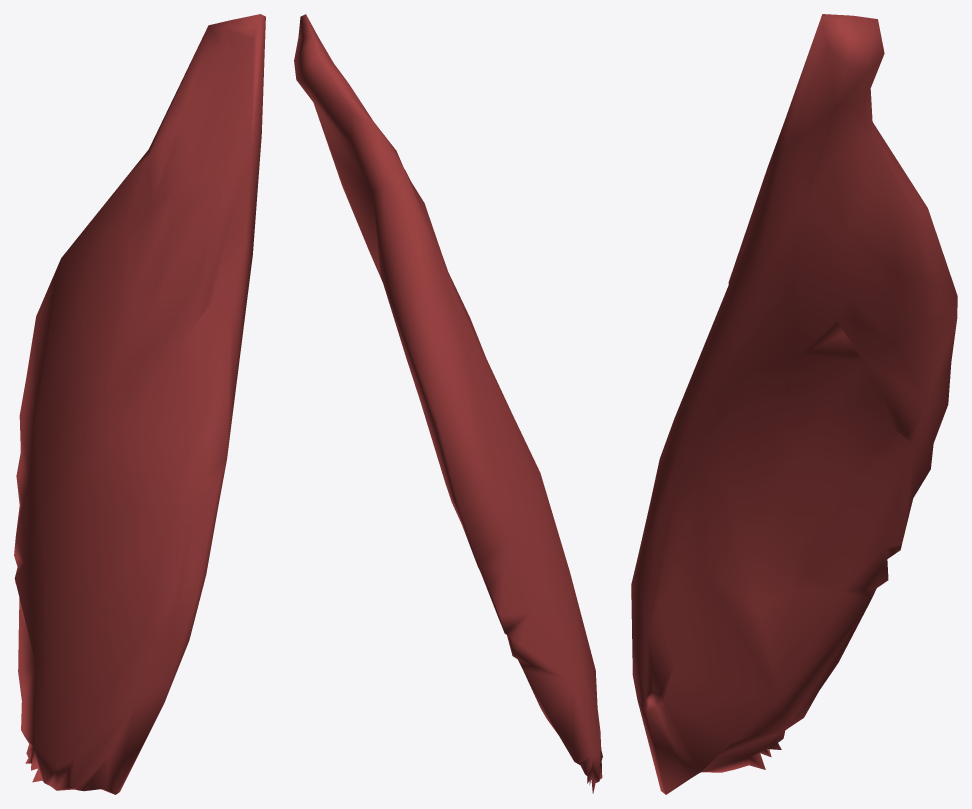
File: opponens-digiti-minimi-muscle-of-hand-l.glb
The picture shows the model from 3 angles, left to right: view 1: azimuth 30°, elevation 25°; view 2: azimuth 150°, elevation 25°; view 3: azimuth 270°, elevation 25°; orthographic projection. The views are drawn at different scales.
Parts seen in each view (by area): view 1: Opponens digiti minimi muscle of hand.l; view 2: Opponens digiti minimi muscle of hand.l; view 3: Opponens digiti minimi muscle of hand.l.
Boxes of the visible parts, bbox=[...] form: Opponens digiti minimi muscle of hand.l: bbox=[14, 14, 265, 794]; Opponens digiti minimi muscle of hand.l: bbox=[294, 14, 602, 793]; Opponens digiti minimi muscle of hand.l: bbox=[631, 14, 957, 794].
Size of the model in its own units: 0.0184 by 0.0477 by 0.0154.
